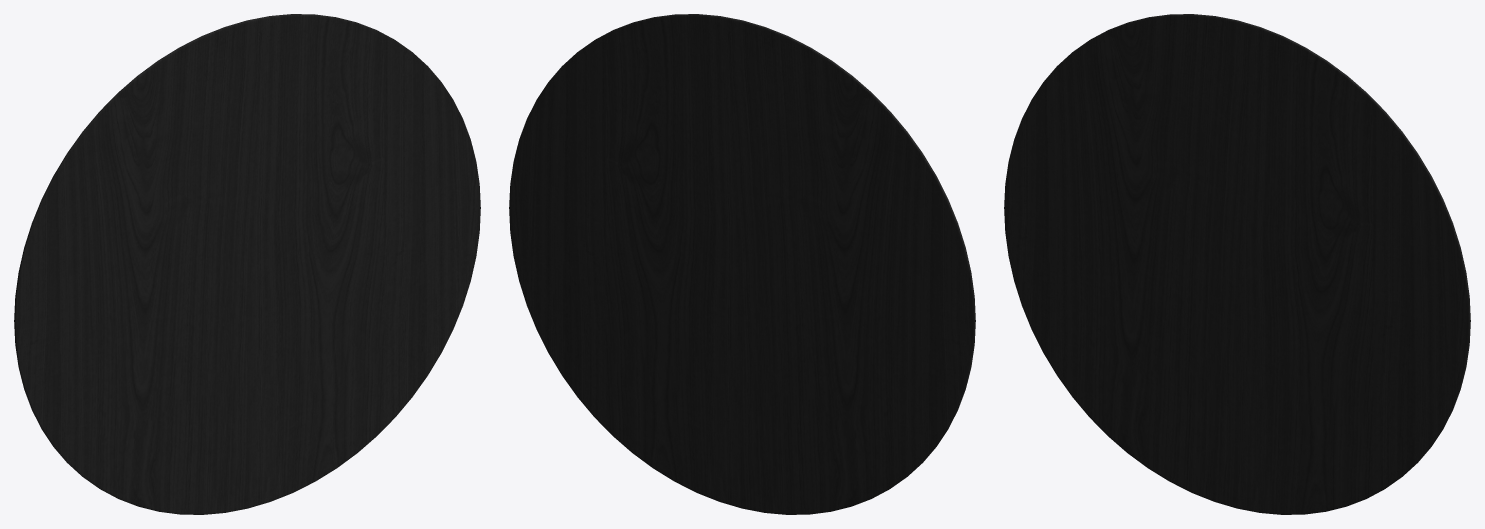
The model's file is l56_wood_button.fbx.
The picture shows the model from 3 angles, left to right: view 1: azimuth 30°, elevation 25°; view 2: azimuth 150°, elevation 25°; view 3: azimuth 330°, elevation 25°; orthographic projection.
Visible parts, largest first — view 1: L56_wood_button; view 2: L56_wood_button; view 3: L56_wood_button.
Part boxes in pixels (<box>): L56_wood_button: <box>14,14,480,514</box>; L56_wood_button: <box>509,14,975,514</box>; L56_wood_button: <box>1004,14,1470,514</box>.
Bounding box in the file's own units: 0.4 × 0.4 × 0.002.
Materials: 1 (1 with a texture image).
